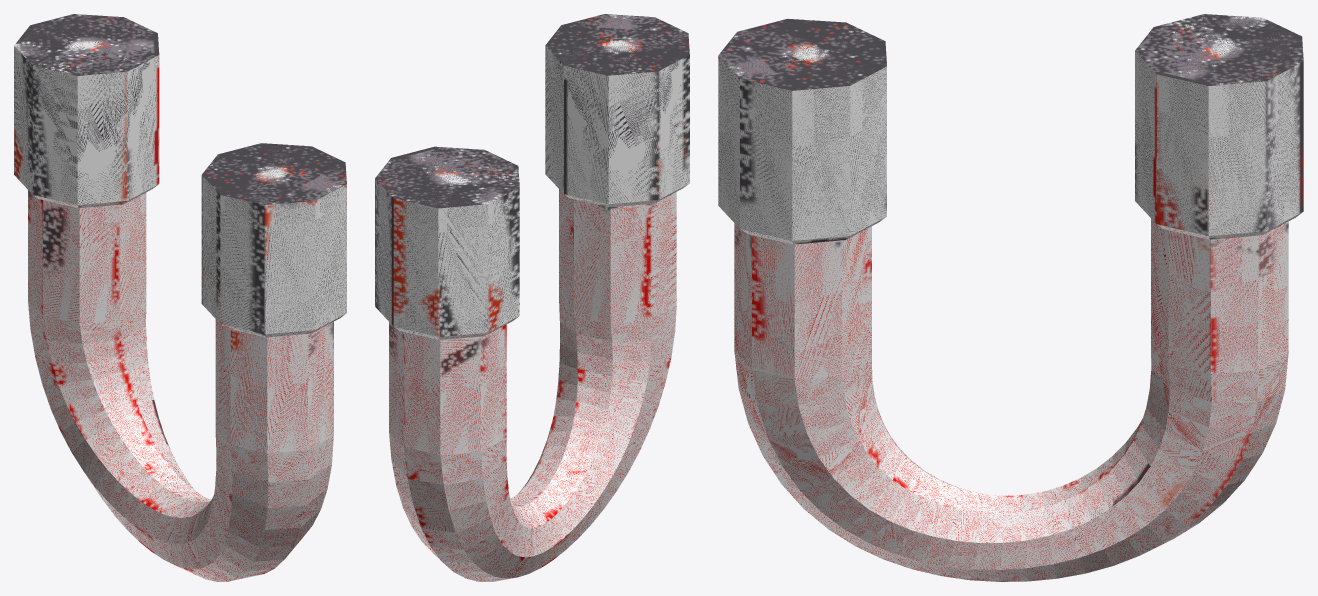
The model's file is Magnet-Animated-Final.fbx.
3 renders of one model, left to right at view 1: azimuth 30°, elevation 25°; view 2: azimuth 150°, elevation 25°; view 3: azimuth 270°, elevation 25°, orthographic. The views are drawn at different scales.
Visible parts, largest first — view 1: Cylinder.002; view 2: Cylinder.002; view 3: Cylinder.002.
Part boxes in pixels (x1,y1,x2,y2): Cylinder.002: [14, 14, 346, 581]; Cylinder.002: [375, 14, 689, 581]; Cylinder.002: [718, 14, 1303, 581].
Bounding box in the file's own units: 232 × 738 × 746.
Materials: 1 (1 with a texture image).
